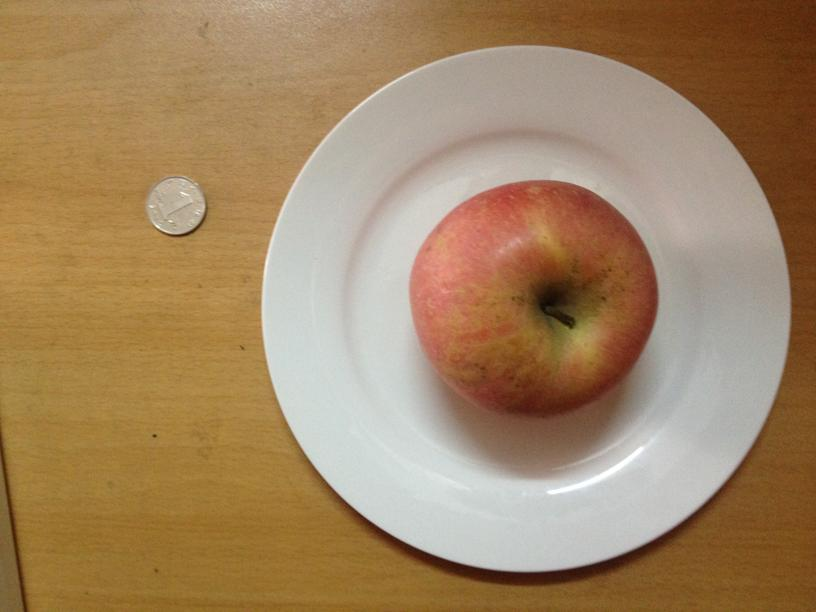apple: (408, 179, 660, 419)
coin: (146, 176, 207, 236)
